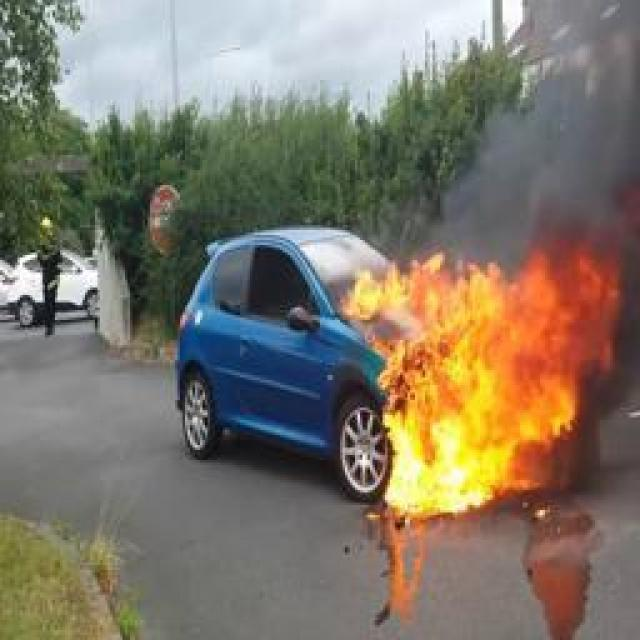Fire: (345, 254, 640, 516)
